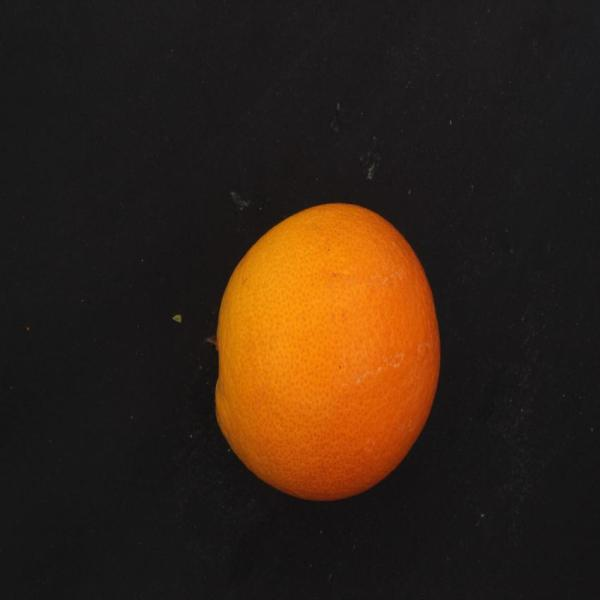Sana: (208, 208, 444, 516)
